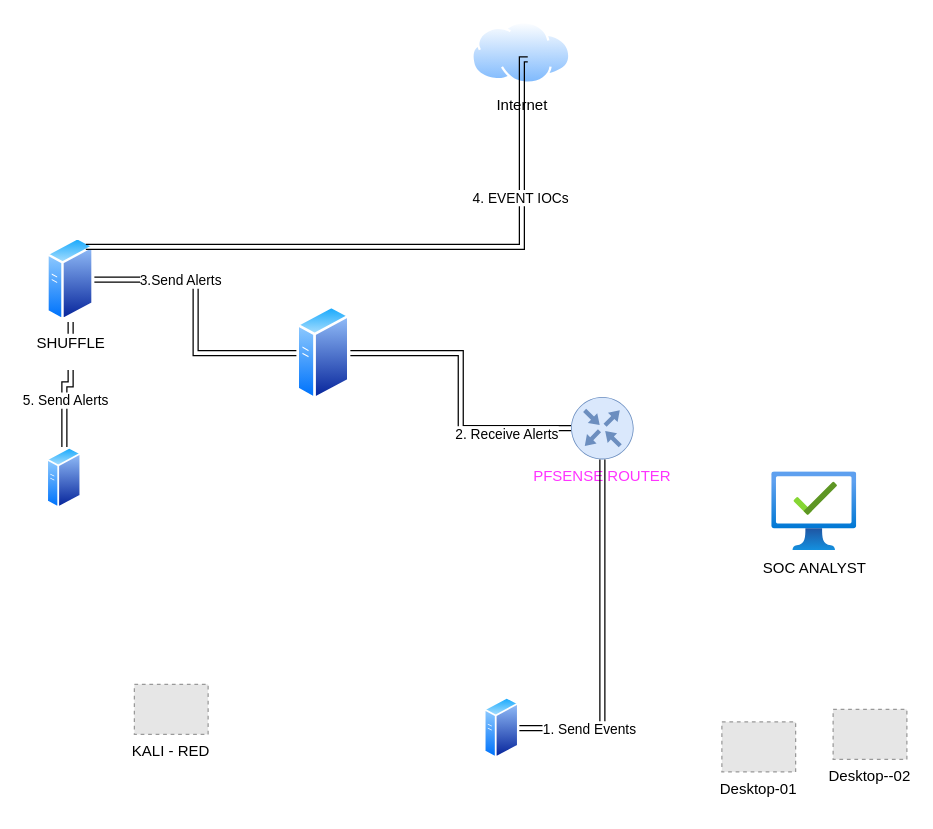
This 933x829 diagram has some shape labels left out. Grey dashed boxes stand in for pictures. Each missing label, with the box of its shape:
DC-01: (484, 696, 519, 759)
THE HIVE: (46, 446, 81, 509)
WAZUH: (296, 305, 350, 400)
